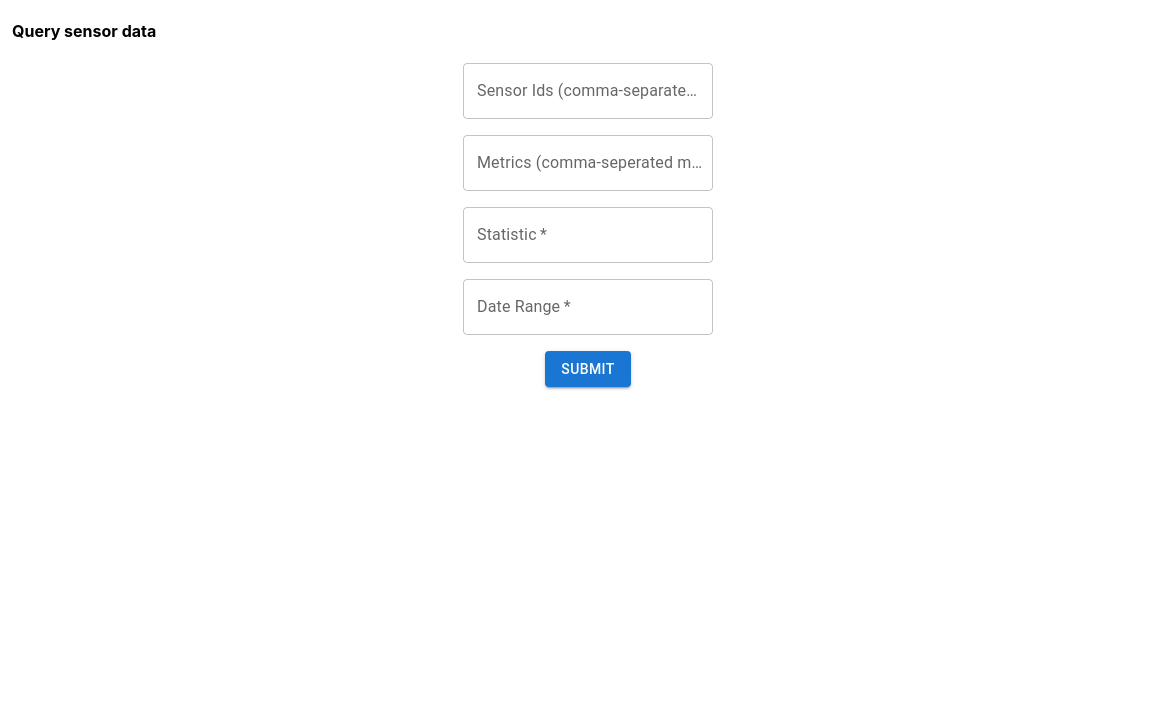
Scenario: QueryData Component › renders the component and handles form submission
Type "1,2,3" into the field labelled "Sensor Ids (comma-separated numbers) *" at (588, 90), box x1=463 y1=62 x2=713 y2=118
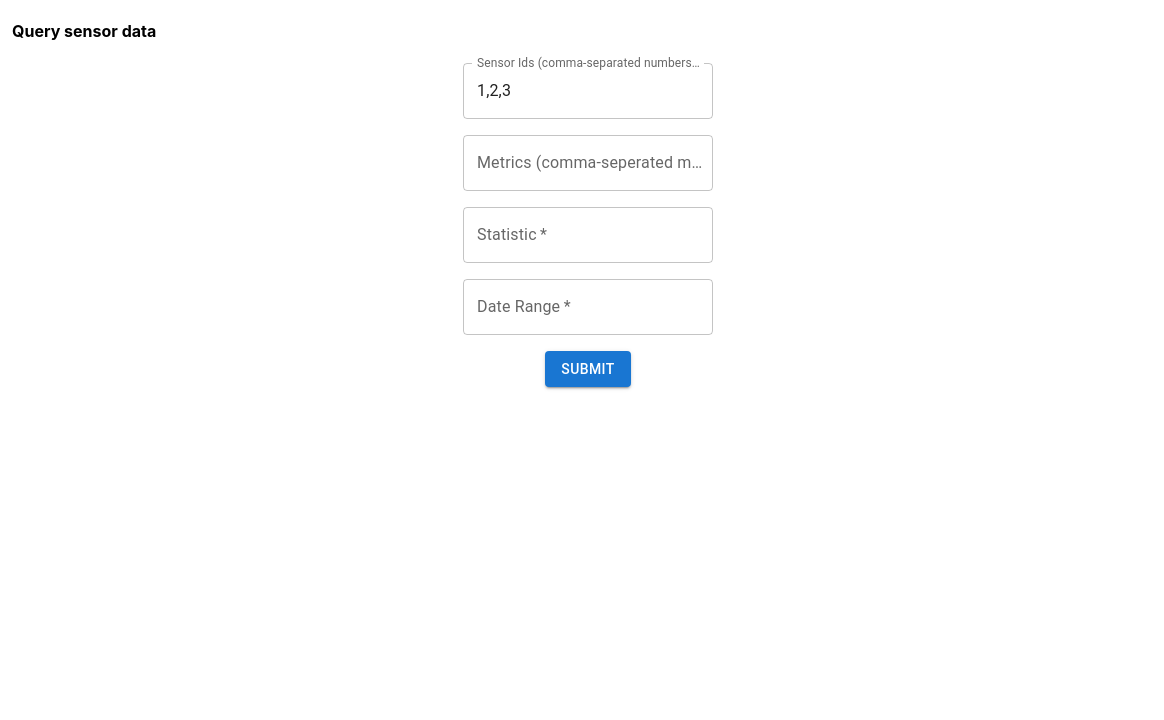
Type "temperature,humidity" into the field labelled "Metrics (comma-seperated metrics) *" at (588, 162), box x1=463 y1=134 x2=713 y2=190
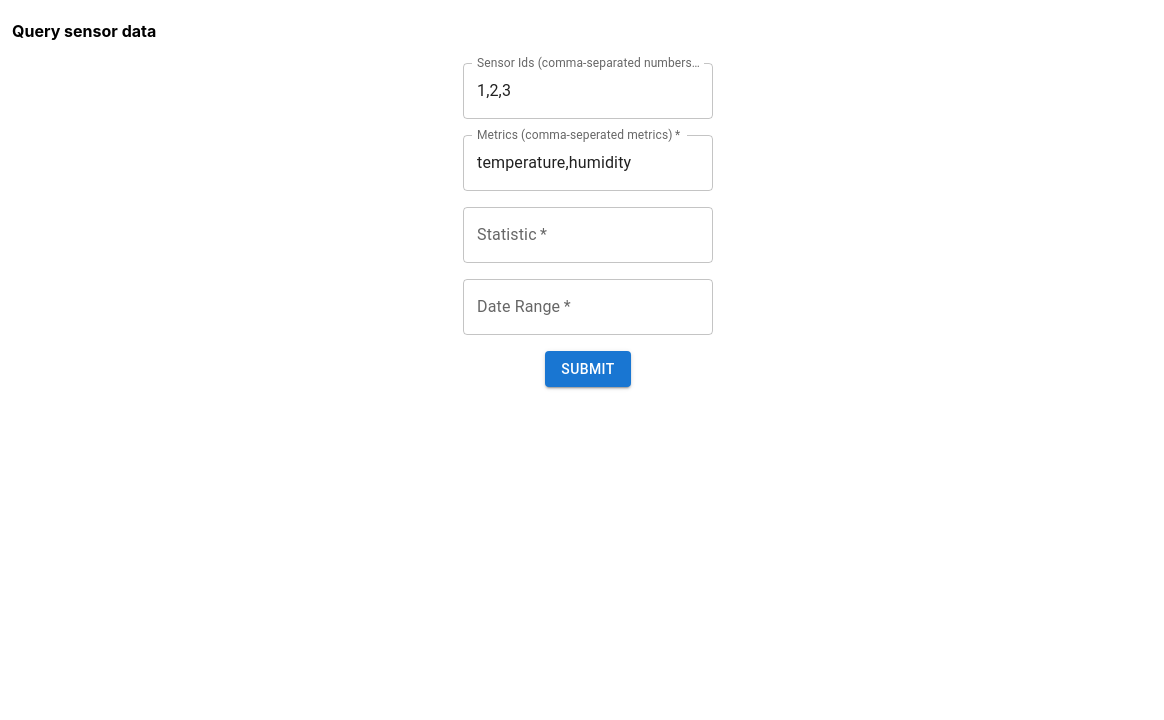
Type "average" into the field labelled "Statistic *" at (588, 234), box x1=463 y1=206 x2=713 y2=262
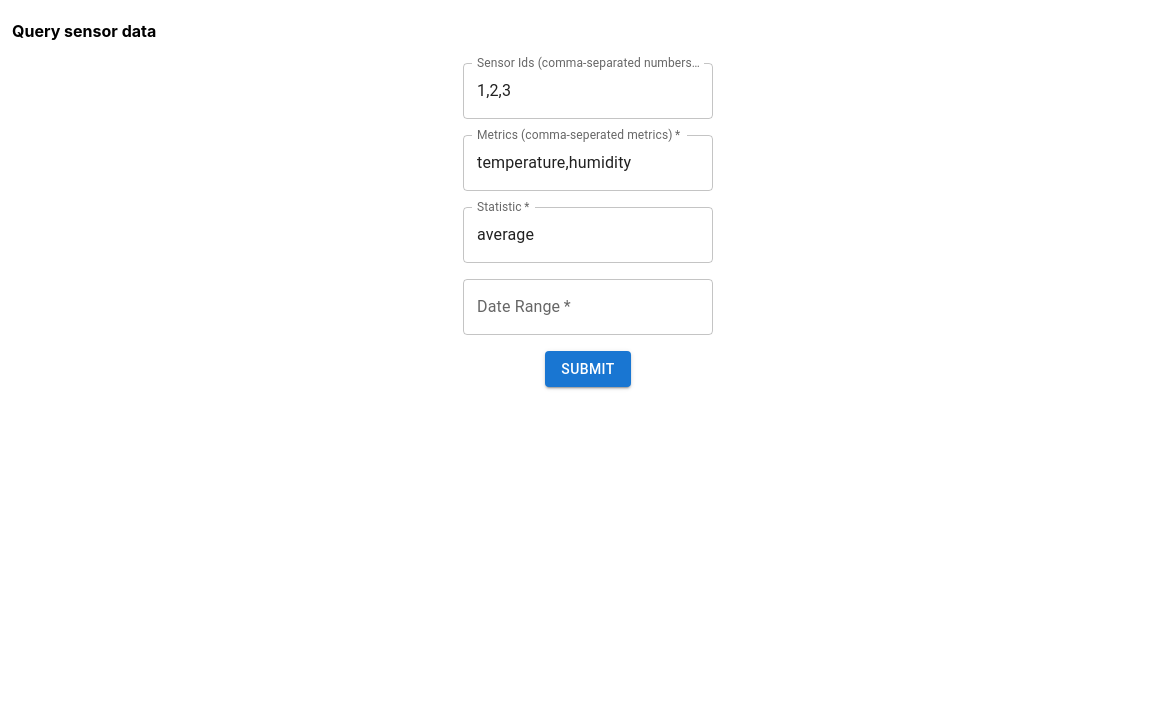
Type "7" into the number field labelled "Date Range *" at (588, 306), box x1=463 y1=278 x2=713 y2=334
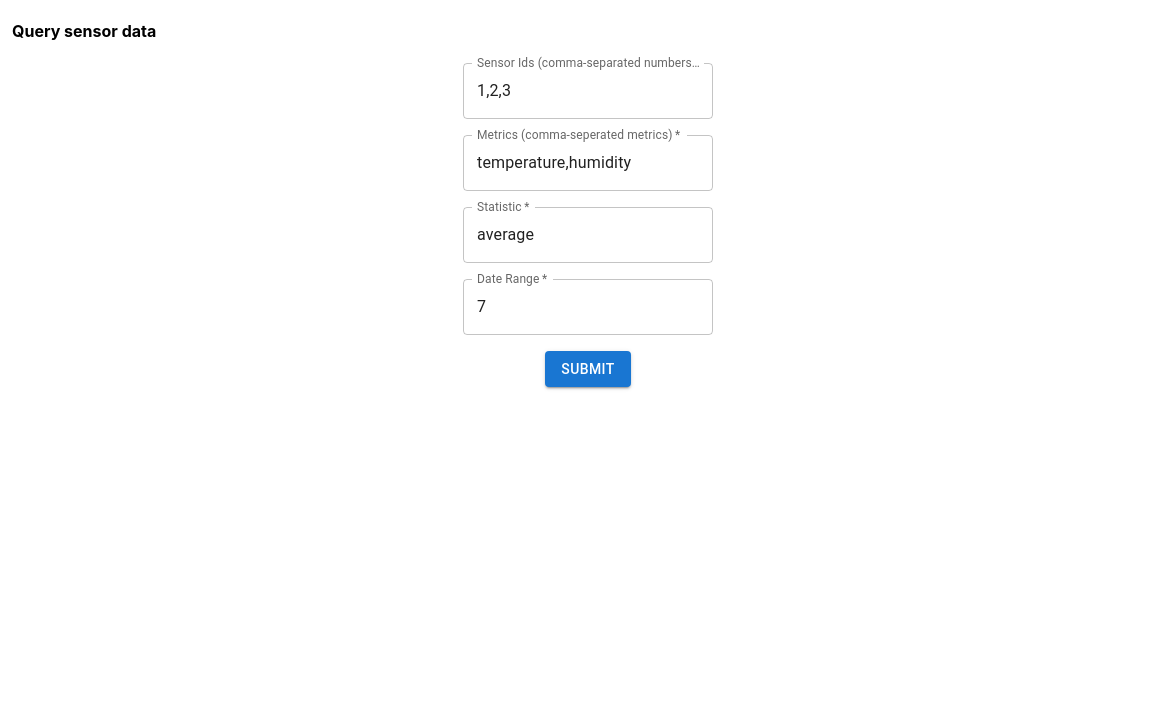
Click the button "Submit" at (588, 369), box x1=545 y1=350 x2=631 y2=387
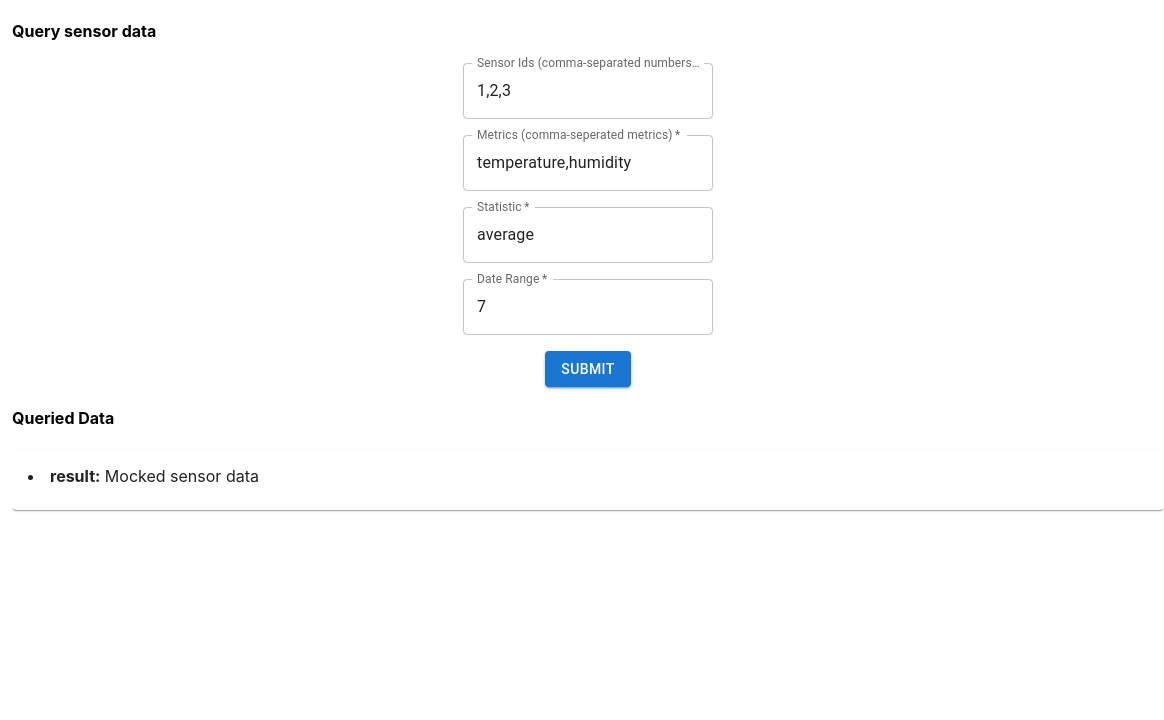
Expected: the heading "Queried Data" is shown, x1=12 y1=408 x2=114 y2=428
Expected: the text "result:" is shown, x1=50 y1=466 x2=100 y2=486
Expected: the list item "result: Mocked sensor data" is shown, x1=50 y1=466 x2=259 y2=486
